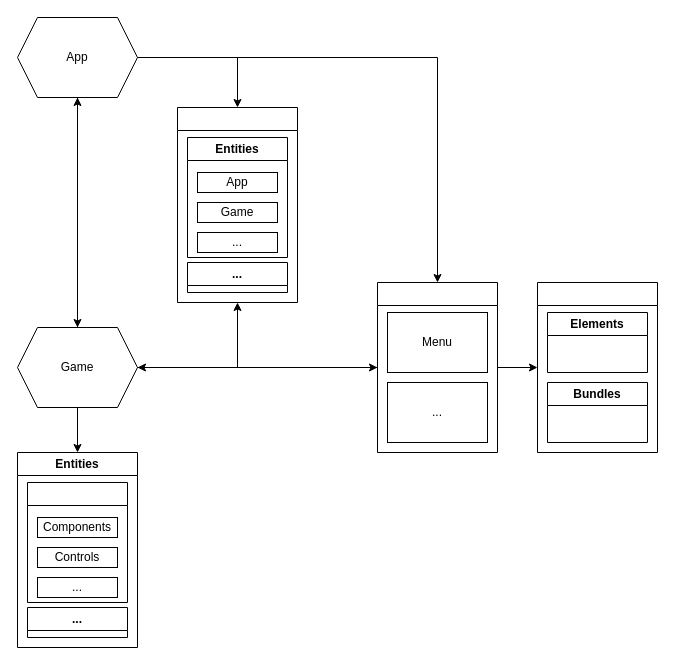
Some shapes in this 675 by 665 pixel diagram are drawn without their labels. The box of each missing label's shape, as (x1, y1, x2, y2) in pixels:
Config: (176, 106, 298, 302)
Layouts: (376, 282, 498, 452)
Player: (26, 482, 128, 602)
UI: (536, 282, 658, 452)
